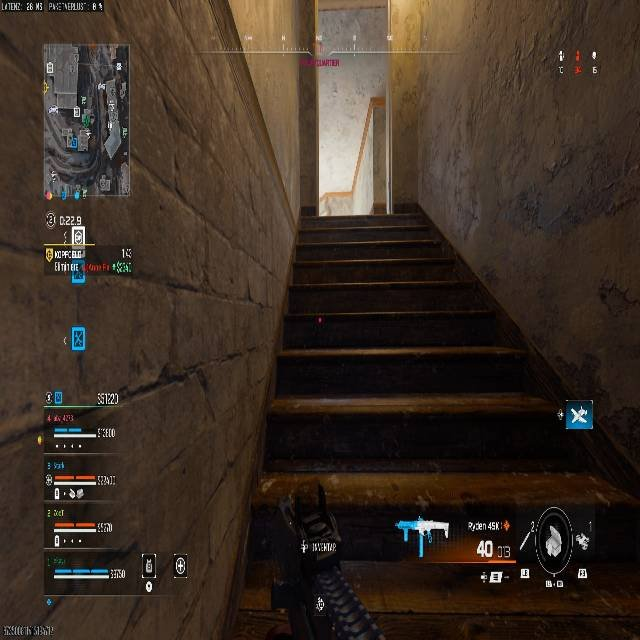player: (272, 480, 390, 639)
